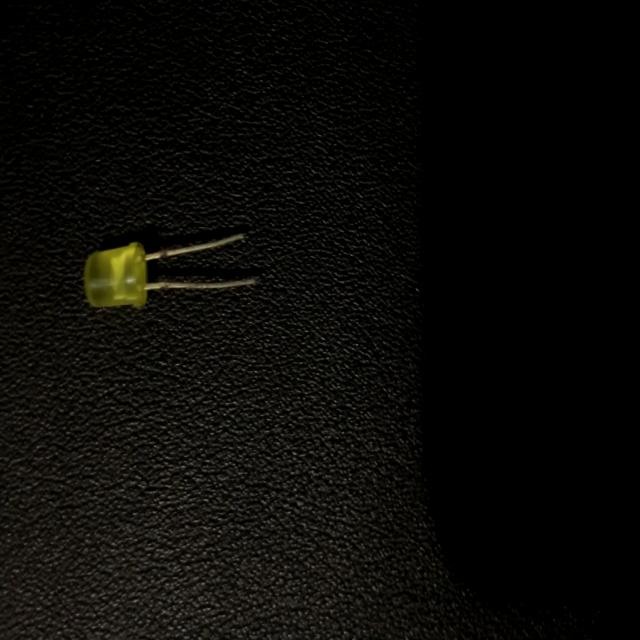LED: (82, 230, 261, 320)
